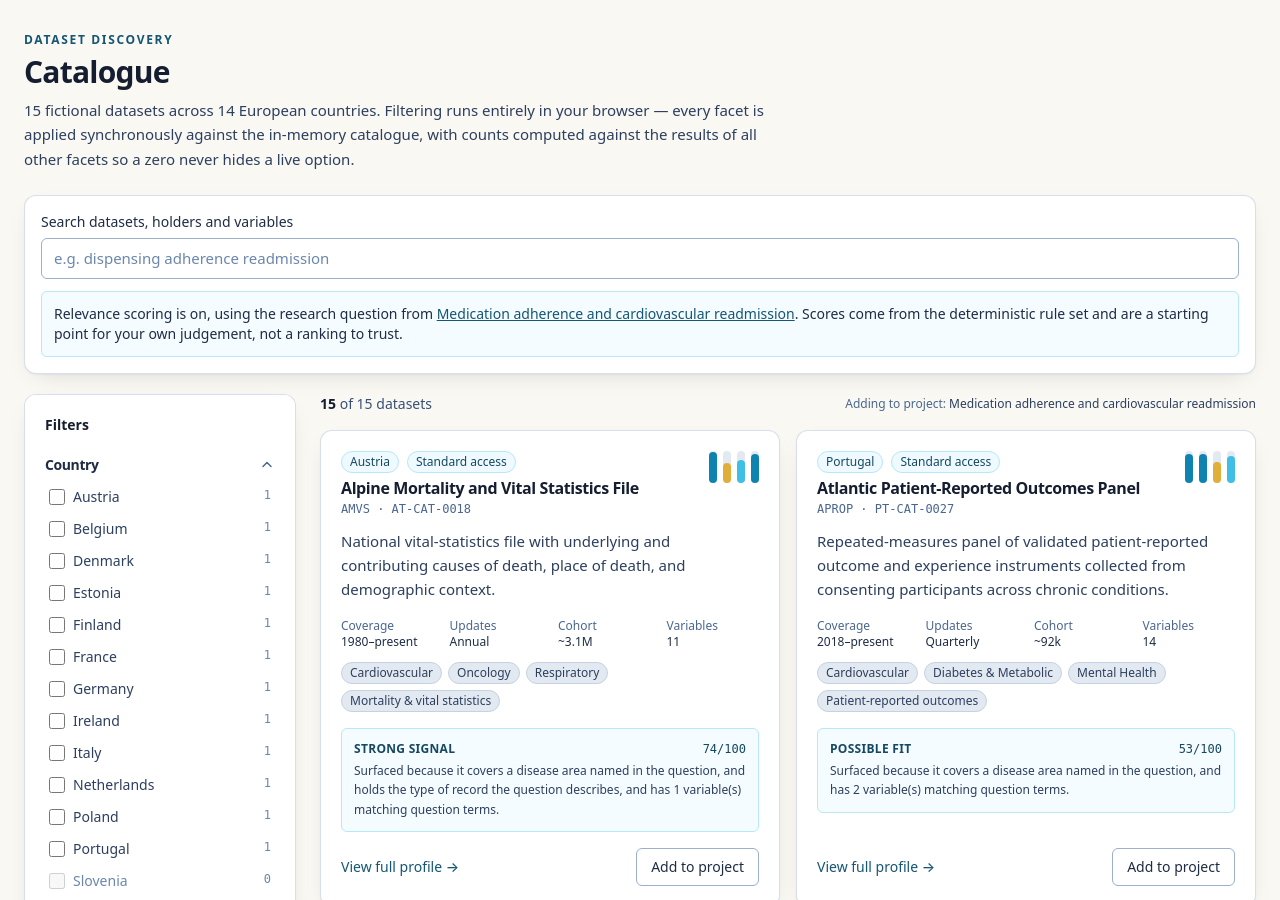
Test: catalogue discovery › shows an empty state with a recovery action when nothing matches
Type "zzzznothingmatches" into the search field labelled "Search datasets, holders and variables" at [640, 258], box [41,238,1239,279]
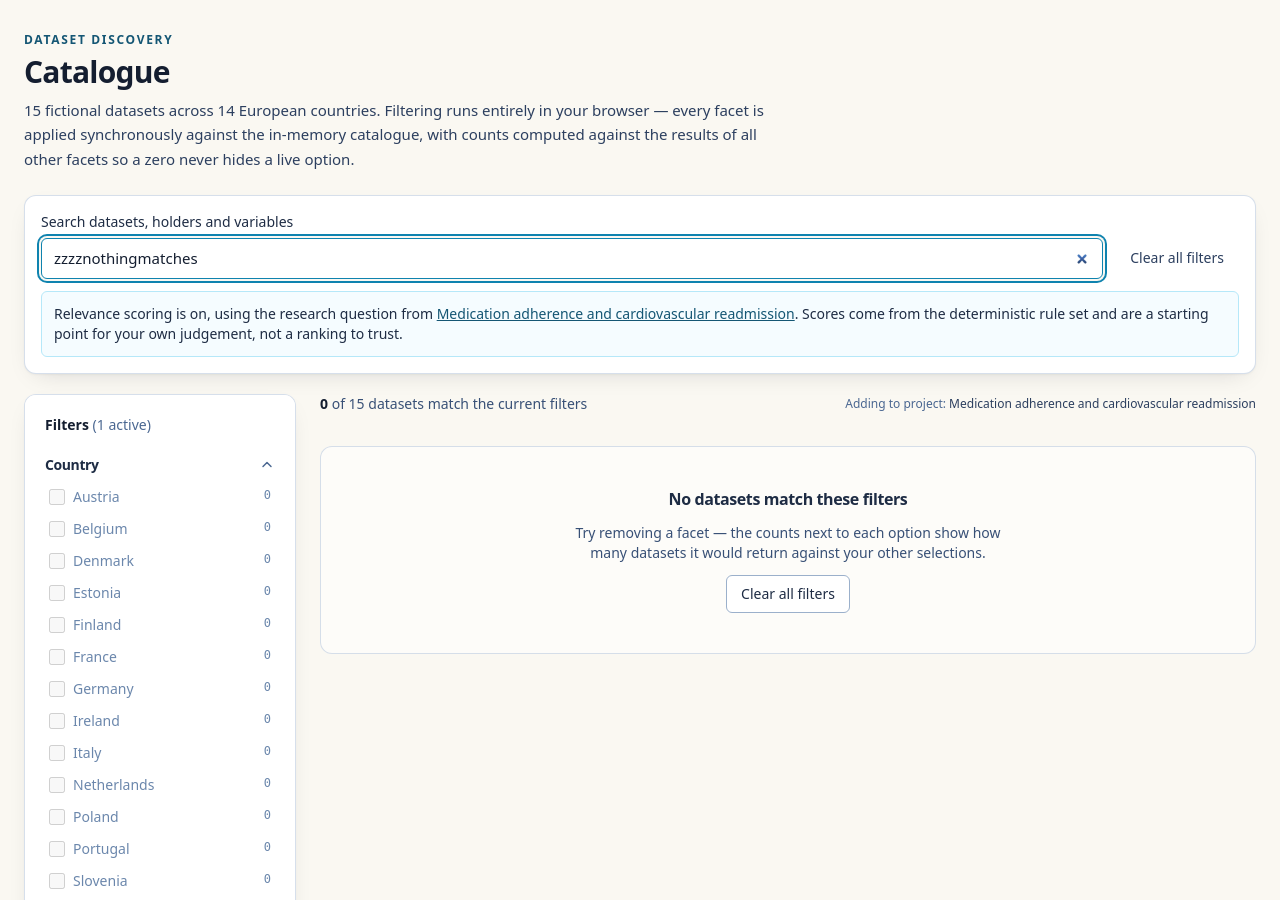
expect the heading "No datasets match these filters" is shown: met, box [669,487,907,511]
expect the 1st button "Clear all filters" is shown: met, box [1115,239,1239,277]
